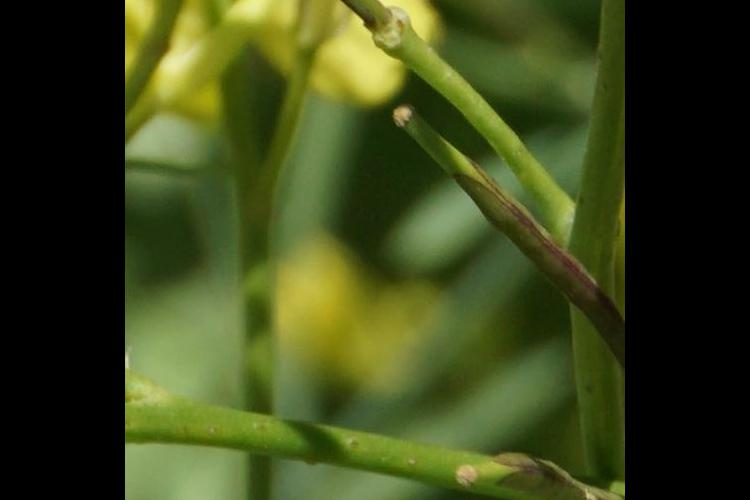pod: (373, 87, 625, 330), (223, 1, 415, 63), (450, 444, 626, 500)
yellow: (139, 1, 411, 100)
